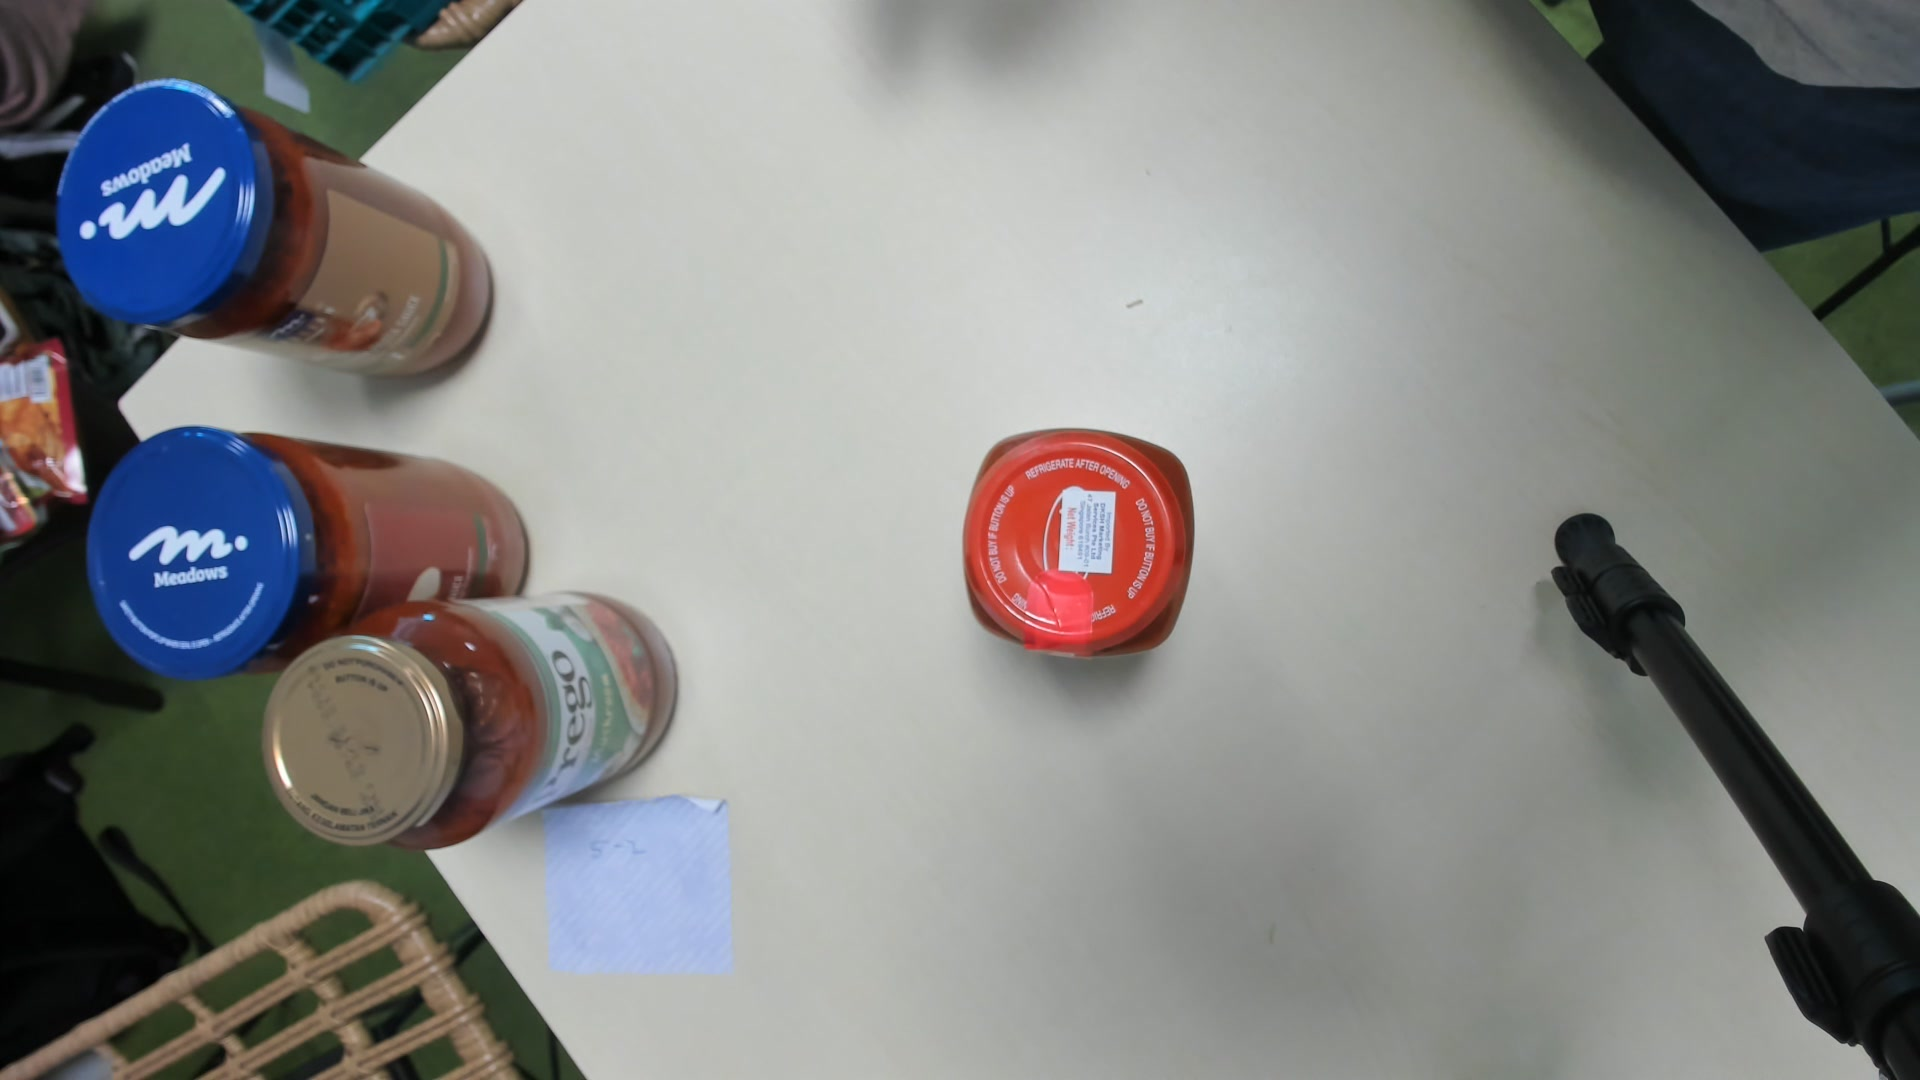PastaSauce_500-599g_Halal_NonHealthy: (963, 430, 1193, 658)
